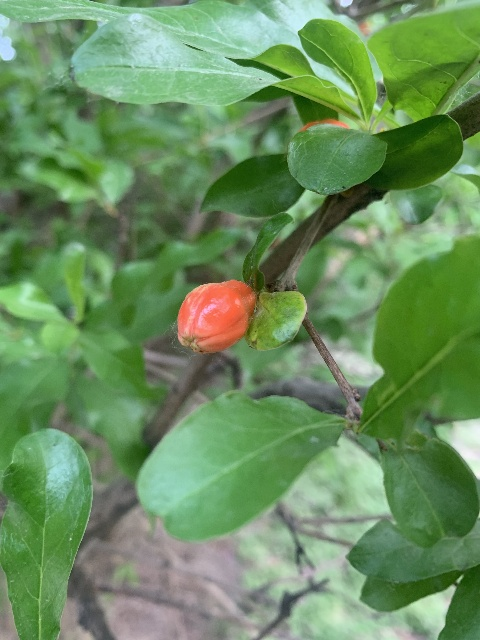bud: (177, 279, 256, 354)
